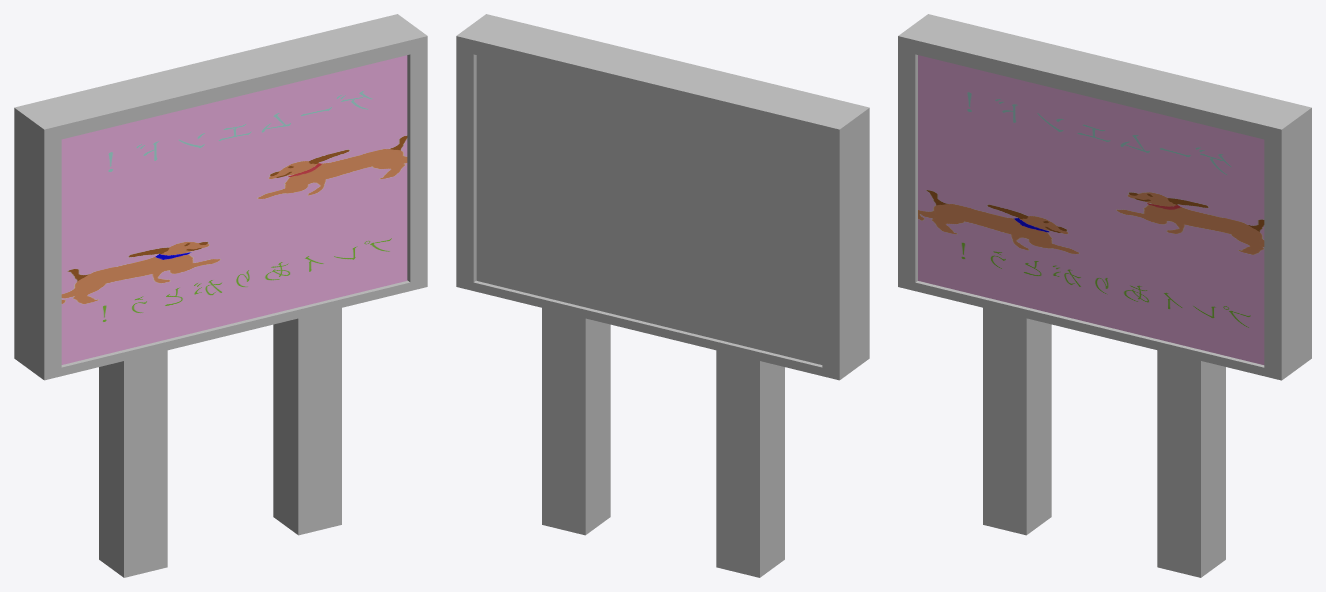
The model's file is GameOverText.fbx.
3 renders of one model, left to right at view 1: azimuth 30°, elevation 25°; view 2: azimuth 150°, elevation 25°; view 3: azimuth 330°, elevation 25°, orthographic.
Parts seen in each view (by area): view 1: pCube3, polySurface1, pCube2, pCube1; view 2: pCube3, polySurface1, pCube2, pCube1; view 3: pCube3, polySurface1, pCube1, pCube2.
Boxes of the visible parts, x1=… form: pCube3: x1=61, y1=55, x2=407, y2=364; polySurface1: x1=14, y1=14, x2=427, y2=380; pCube2: x1=99, y1=350, x2=167, y2=577; pCube1: x1=273, y1=308, x2=341, y2=535; pCube3: x1=476, y1=55, x2=822, y2=364; polySurface1: x1=456, y1=14, x2=869, y2=380; pCube2: x1=716, y1=350, x2=784, y2=577; pCube1: x1=542, y1=308, x2=610, y2=535; pCube3: x1=918, y1=55, x2=1264, y2=364; polySurface1: x1=898, y1=14, x2=1311, y2=380; pCube1: x1=1157, y1=350, x2=1225, y2=577; pCube2: x1=983, y1=308, x2=1051, y2=535.
Bounding box in the file's own units: 8.8 × 10.31 × 1.2.
